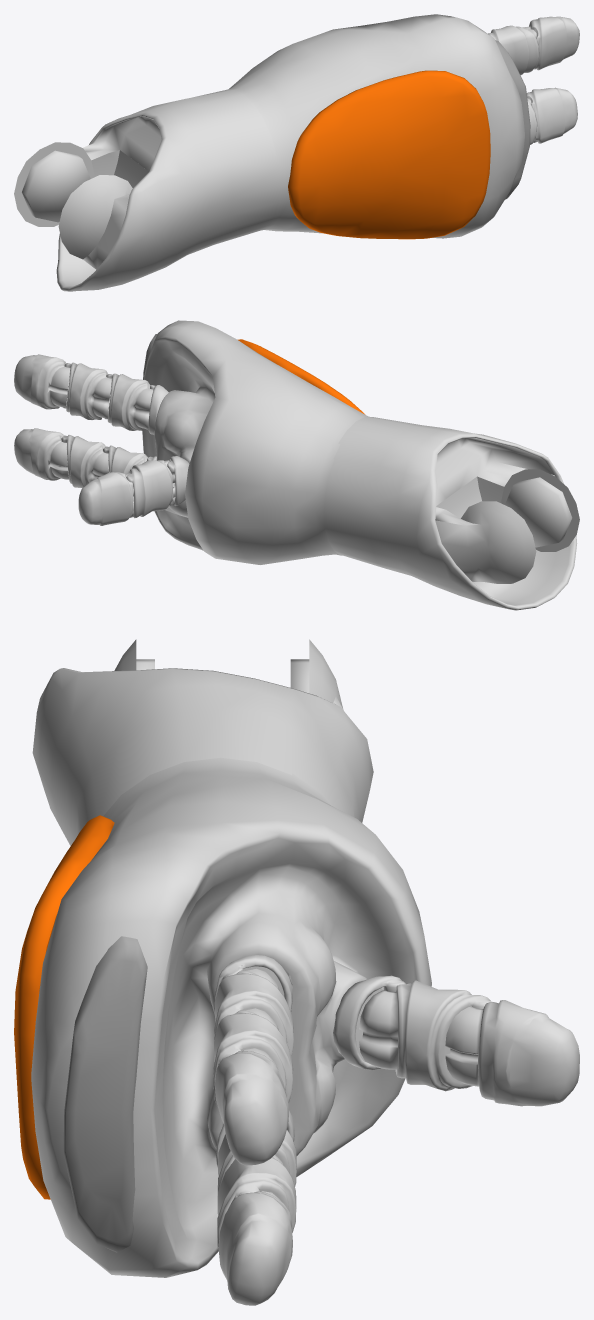
Rendered from RElbowRollComplete.obj.
The picture shows the model from 3 angles, top to bottom: view 1: azimuth 30°, elevation 25°; view 2: azimuth 150°, elevation 25°; view 3: azimuth 270°, elevation 25°; orthographic projection. The views are drawn at different scales.
Parts seen in each view (by area): view 1: RElbowRollComplete_Mesh.018; view 2: RElbowRollComplete_Mesh.018; view 3: RElbowRollComplete_Mesh.018.
Part boxes in pixels (x1,y1,x2,y2): RElbowRollComplete_Mesh.018: [14, 14, 579, 291]; RElbowRollComplete_Mesh.018: [14, 320, 579, 610]; RElbowRollComplete_Mesh.018: [14, 639, 579, 1305].
Size of the model in its own units: 185 by 68.29 by 85.28.
